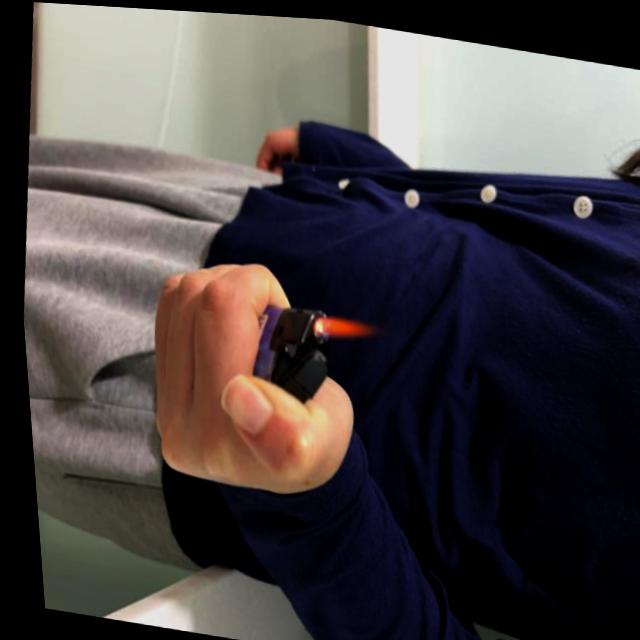helmet: (305, 305, 378, 341)
